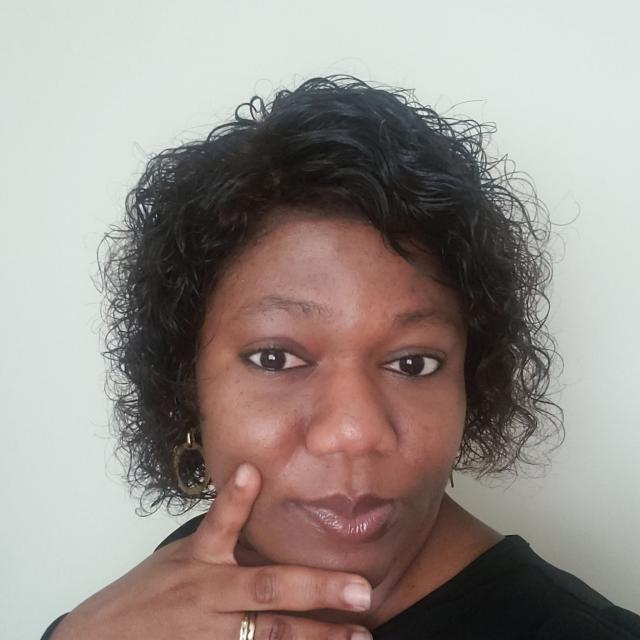happy: (187, 214, 468, 596)
